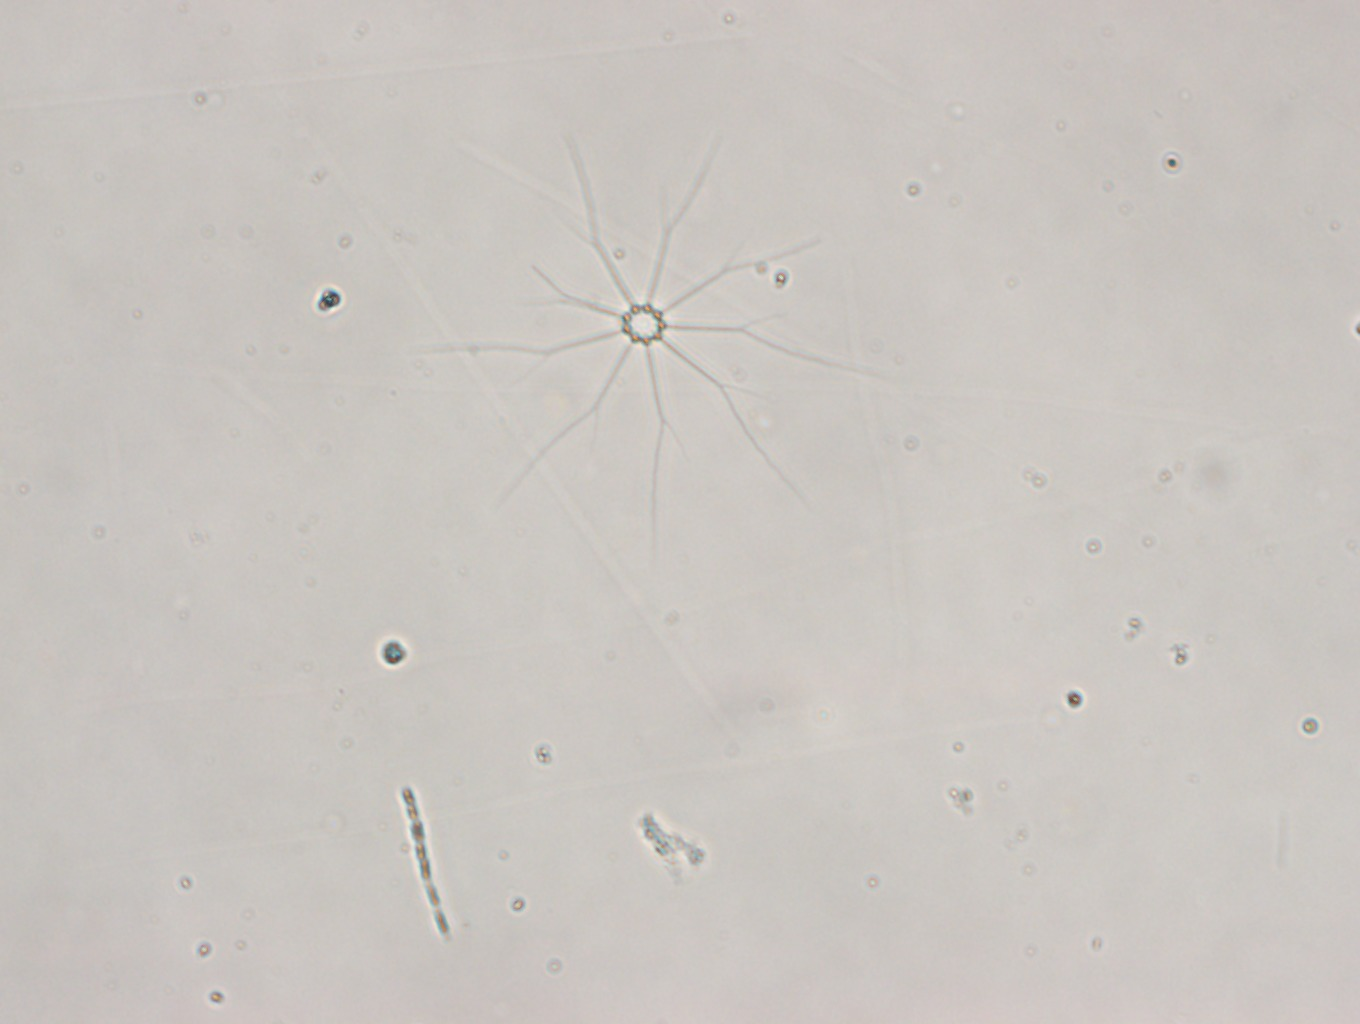bacteriastrum: (415, 125, 894, 545)
